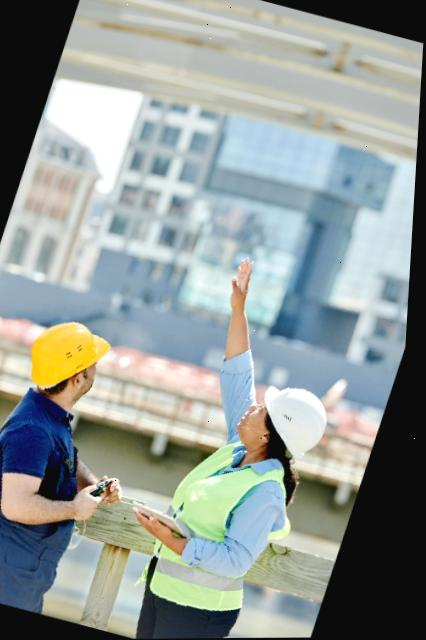helmet: (17, 305, 138, 403), (248, 379, 353, 461)
vest: (136, 436, 303, 623)
